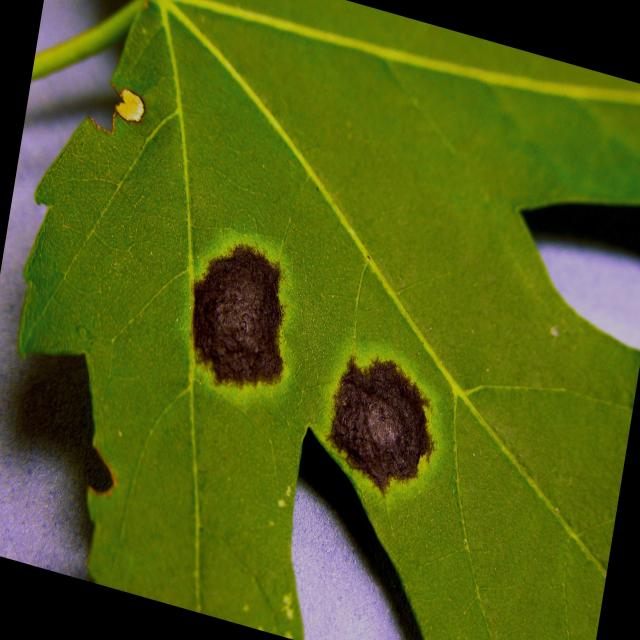Tar_Spot: (16, 0, 638, 638)
